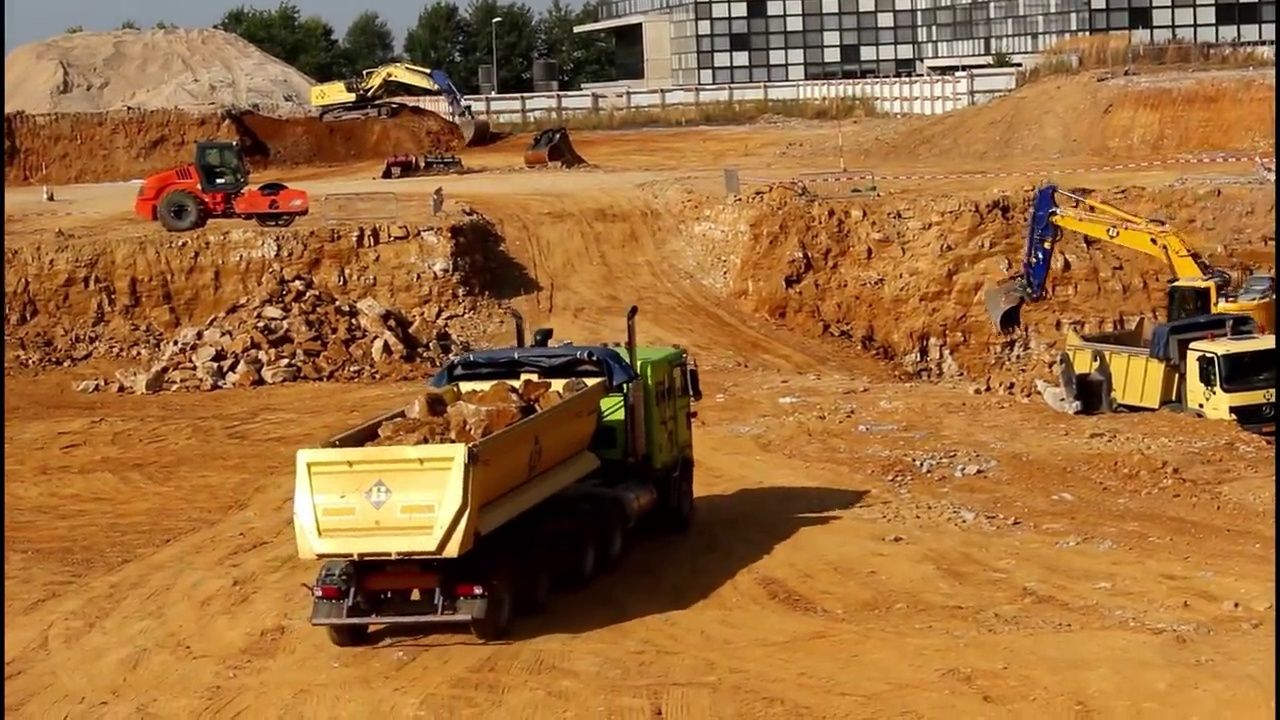compactor: (130, 141, 315, 233)
excavator: (982, 183, 1280, 395), (306, 55, 493, 154)
truck: (292, 303, 707, 650), (1060, 314, 1280, 454)
